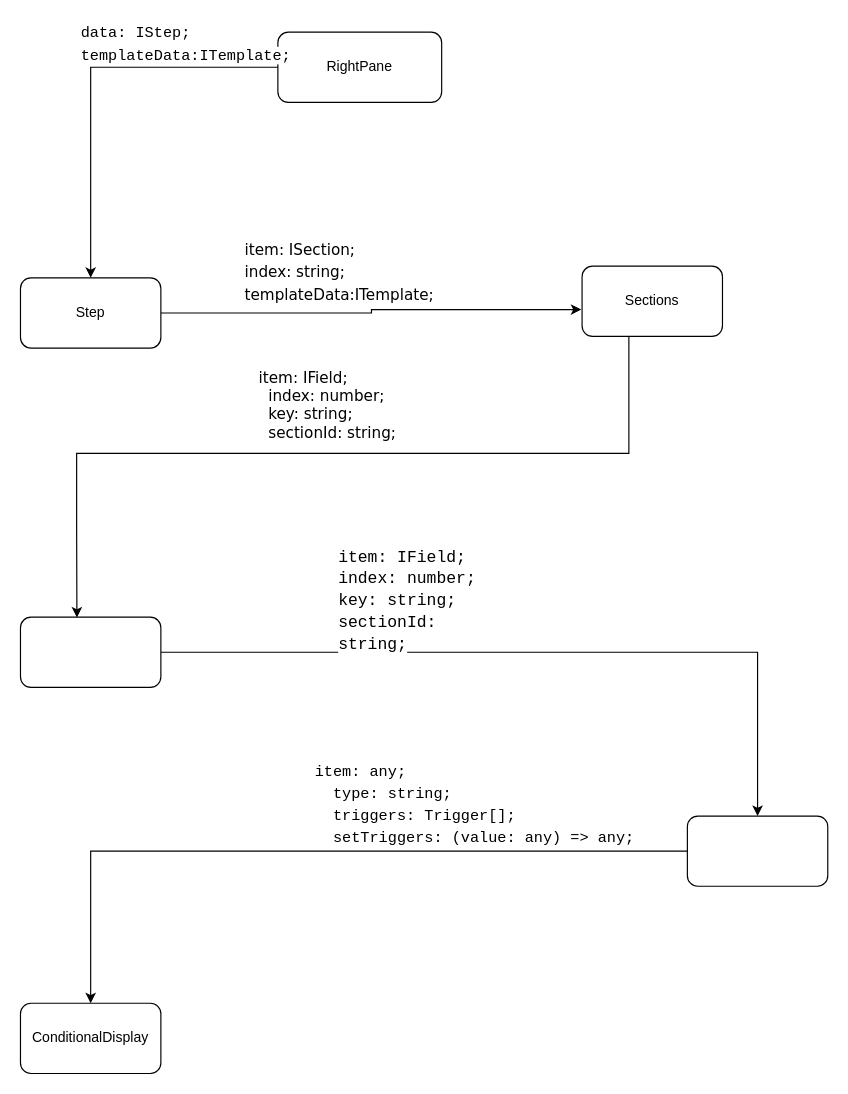
Some shapes in this 848 by 1094 pixel diagram are drawn without their labels. The shapes that lost their labels are listed below. From the top down, each one's centre as x and y in pixels, then its label:
At [90,651]: "Element".
At [757,850]: "ElementSetting".
